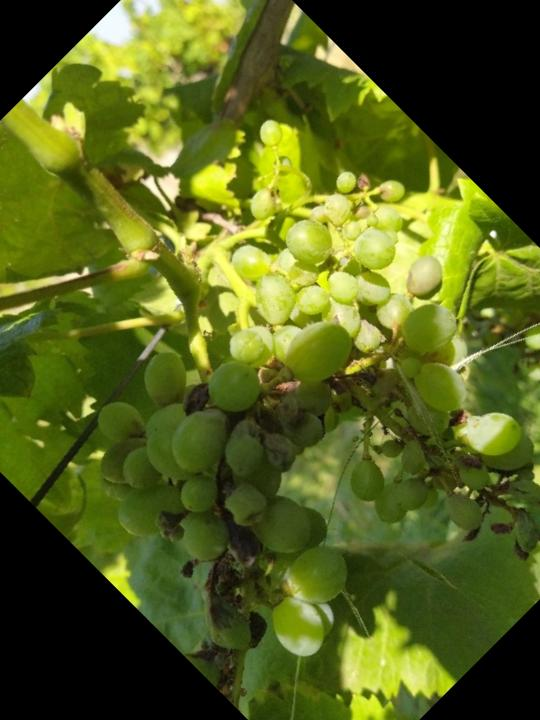grape: (0, 85, 540, 720)
